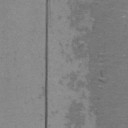surface scratch: (44, 0, 50, 128)
